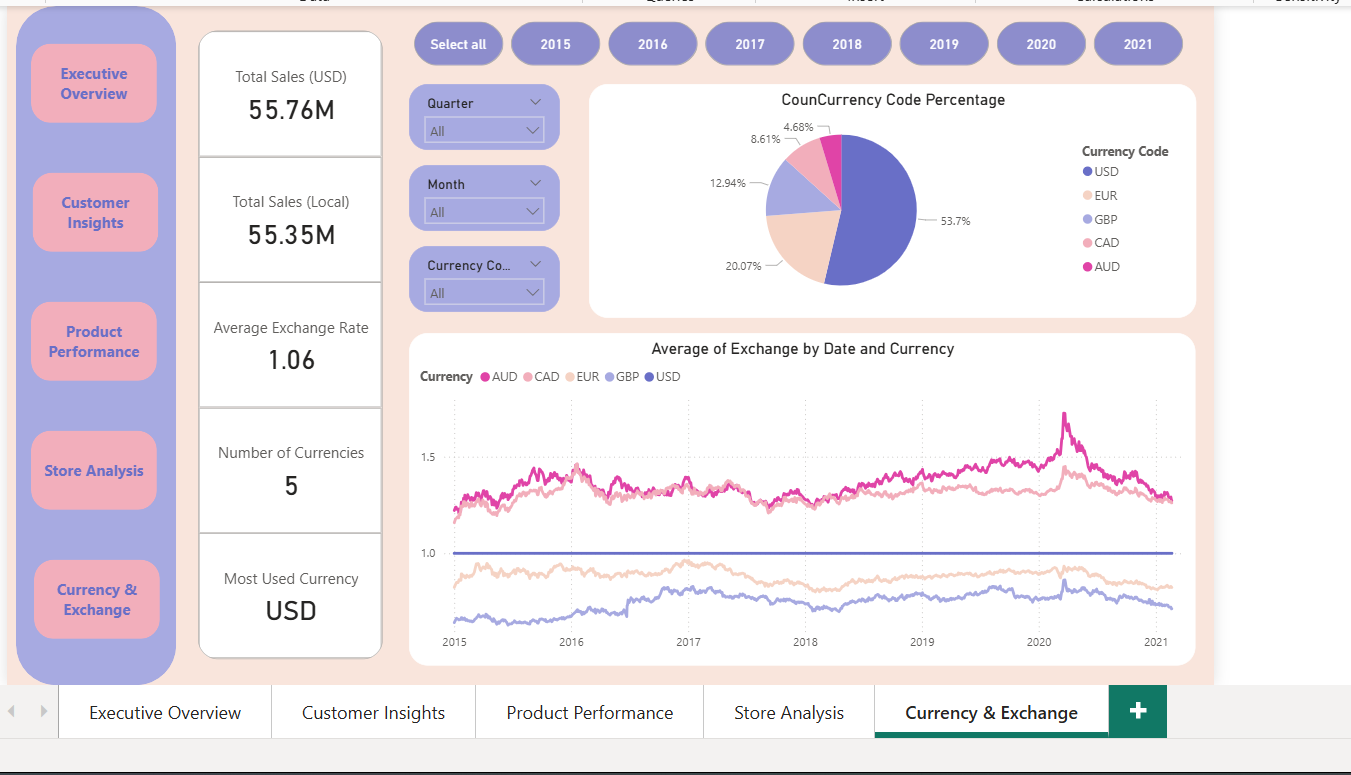

This screenshot's page, from the dashboard's own definition file:
{"tool":"powerbi","page":{"name":"Currency & Exchange","canvas":[1280,720],"ordinal":4},"visuals":[{"type":"group","id":"g1","title":"Group 3","box":[10,0,170,720.4],"z":0},{"type":"actionButton","box":[28.4,177.4,133.6,84.3],"z":0,"group":"g2"},{"type":"cardVisual","fields":{"Data":["Sales.Total Sales (USD)","Sales.Total Sales (Local)","Sales.Average Exchange Rate","Sales.Number of Currencies Used","Sales.Most Used Currency"]},"box":[197.5,21.2,206.3,678.8],"z":1000},{"type":"actionButton","box":[26.7,314.3,133.6,84.3],"z":1000,"group":"g2"},{"type":"shape","box":[10,0,170,720.4],"z":2000,"group":"g1"},{"type":"slicer","fields":{"Values":["Sales.Currency Code"]},"box":[426.3,254.5,160,70],"z":2000},{"type":"actionButton","box":[26.7,451.3,133.6,84.3],"z":2000,"group":"g2"},{"type":"lineChart","fields":{"Y":["Avg(Exchange_Rates.Exchange)"],"Category":["Date.Date"],"Series":["Exchange_Rates.Currency"]},"box":[426.7,347.3,833.9,352.6],"z":3000},{"type":"actionButton","box":[30.1,588.2,133.6,84.3],"z":3000,"group":"g2"},{"type":"pieChart","title":"CounCurrency Code Percentage","fields":{"Category":["Sales.Currency Code"],"Y":["CountNonNull(Sales.Currency Code)"]},"box":[617.2,82.7,644.2,248.1],"z":4000},{"type":"advancedSlicerVisual","fields":{"Values":["Date.Year"]},"box":[426.3,11.1,833.5,57.3],"z":5000},{"type":"slicer","fields":{"Values":["Date.Month"]},"box":[426.3,168.6,160,70],"z":6000},{"type":"slicer","fields":{"Values":["Date.Quarter"]},"box":[426.3,82.7,160,70],"z":7000},{"type":"actionButton","box":[26.7,40.5,133.6,84.3],"z":7001,"group":"g3"},{"type":"group","id":"g2","title":"Group 1","box":[26.7,177.4,137,495.1],"z":7006,"group":"g3"},{"type":"group","id":"g3","title":"Group 2","box":[26.7,40.5,137,632],"z":7007,"group":"g1"}]}

Visuals, with their boxes on the page's 1280x720 design canvas (x1, y1, x2, y2). These are canvas units, not pixel positions in the 1351x775 screenshot, which may show the page scaled, cropped or inside an application window:
"Group 3" group: [10,0,180,720]
actionButton: [28,177,162,262]
cardVisual - Sales.Total Sales (USD) x Sales.Total Sales (Local): [198,21,404,700]
actionButton: [27,314,160,399]
shape: [10,0,180,720]
slicer - Sales.Currency Code: [426,254,586,324]
actionButton: [27,451,160,536]
lineChart - Avg(Exchange_Rates.Exchange) x Date.Date: [427,347,1261,700]
actionButton: [30,588,164,672]
"CounCurrency Code Percentage" pieChart: [617,83,1261,331]
advancedSlicerVisual - Date.Year: [426,11,1260,68]
slicer - Date.Month: [426,169,586,239]
slicer - Date.Quarter: [426,83,586,153]
actionButton: [27,40,160,125]
"Group 1" group: [27,177,164,672]
"Group 2" group: [27,40,164,672]
